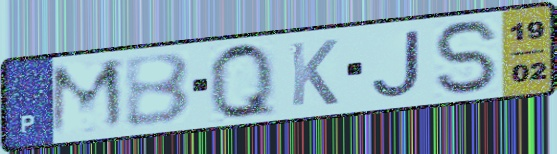B: (120, 50, 194, 130)
J: (368, 27, 424, 100)
K: (287, 37, 341, 110)
M: (44, 56, 130, 140)
Q: (204, 39, 281, 122)
S: (430, 17, 504, 97)
